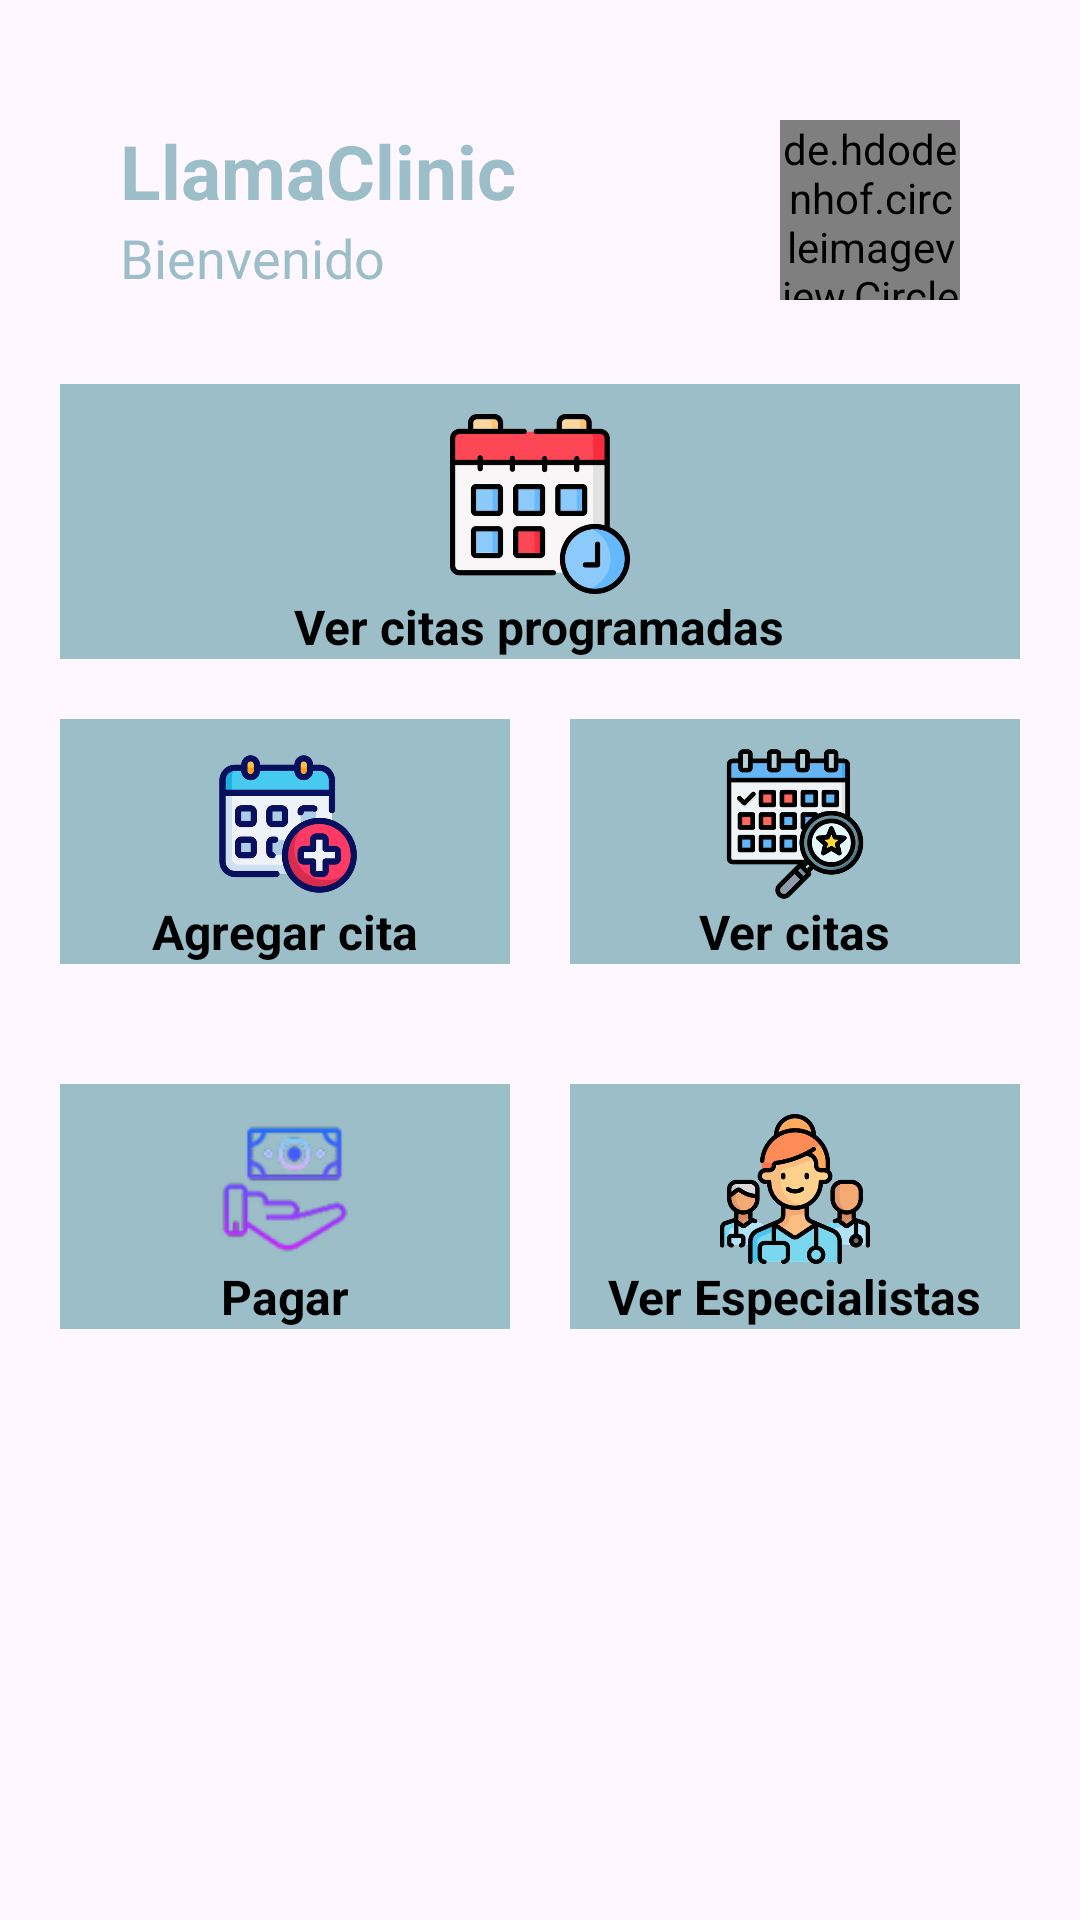

Where to tap for icons on this 1080px x 1920px app screen, as (x=x, y=y):
equipo medico: (x=795, y=1189)
